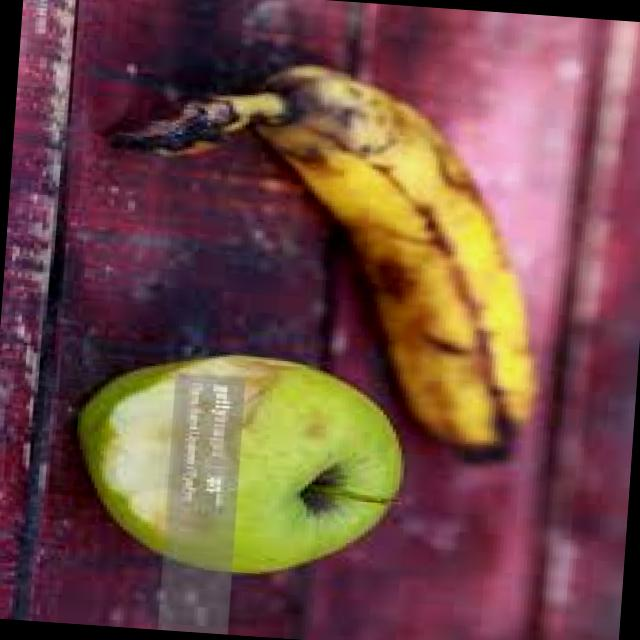organic: (64, 59, 558, 640)
